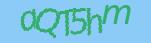5: (70, 8, 86, 34)
Q: (35, 8, 60, 37)
T: (57, 8, 76, 35)
a: (20, 9, 37, 30)
h: (86, 8, 102, 35)
m: (102, 5, 130, 23)
